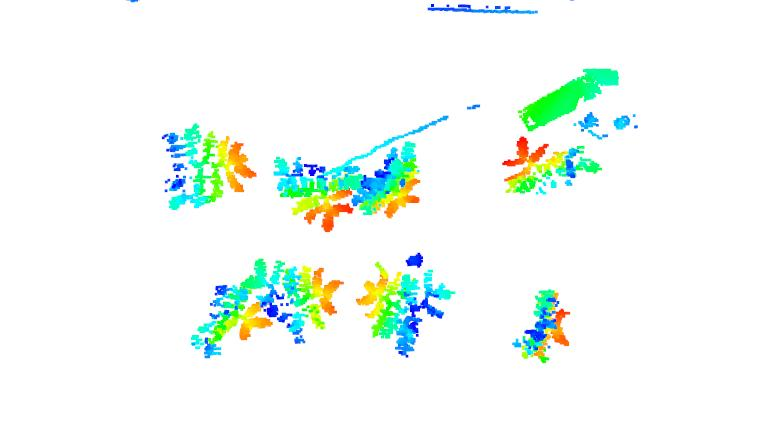chickpea: (357, 265, 452, 356), (161, 123, 254, 210), (246, 259, 341, 341), (273, 154, 353, 230), (189, 282, 264, 359), (501, 136, 602, 193), (353, 139, 422, 219), (513, 286, 570, 366)
